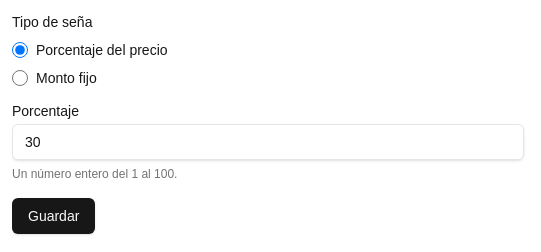
Test: DepositPolicyForm - the type selector › should_change_the_value_label_and_help_when_the_type_changes
Expected: the field labelled "Porcentaje" is shown, [12,124,524,160]
Click the radio button labelled "Monto fijo" at (20,78), box [12,70,28,86]
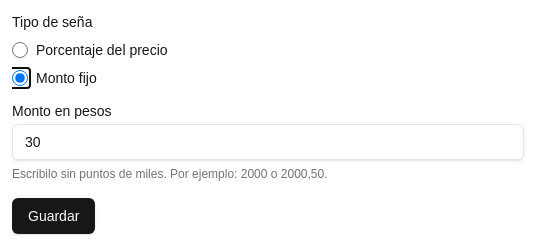
Expected: the field labelled "Monto en pesos" is shown, [12,124,524,160]
Now the text "Escribilo sin puntos de miles. Por ejemplo: 2000 o 2000,50." is shown, box [12,167,328,181]
